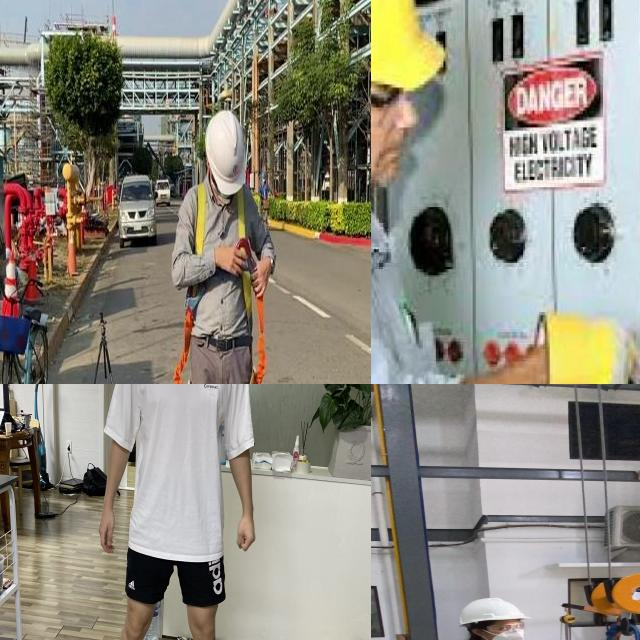Harness: (174, 307, 193, 384), (250, 297, 266, 384)
face_mask: (481, 619, 529, 640)
face_nomask: (371, 98, 416, 184)
glasses: (480, 620, 527, 634)
hand_glove: (540, 312, 634, 384)
head_helmet: (371, 0, 443, 90), (456, 596, 532, 626)
